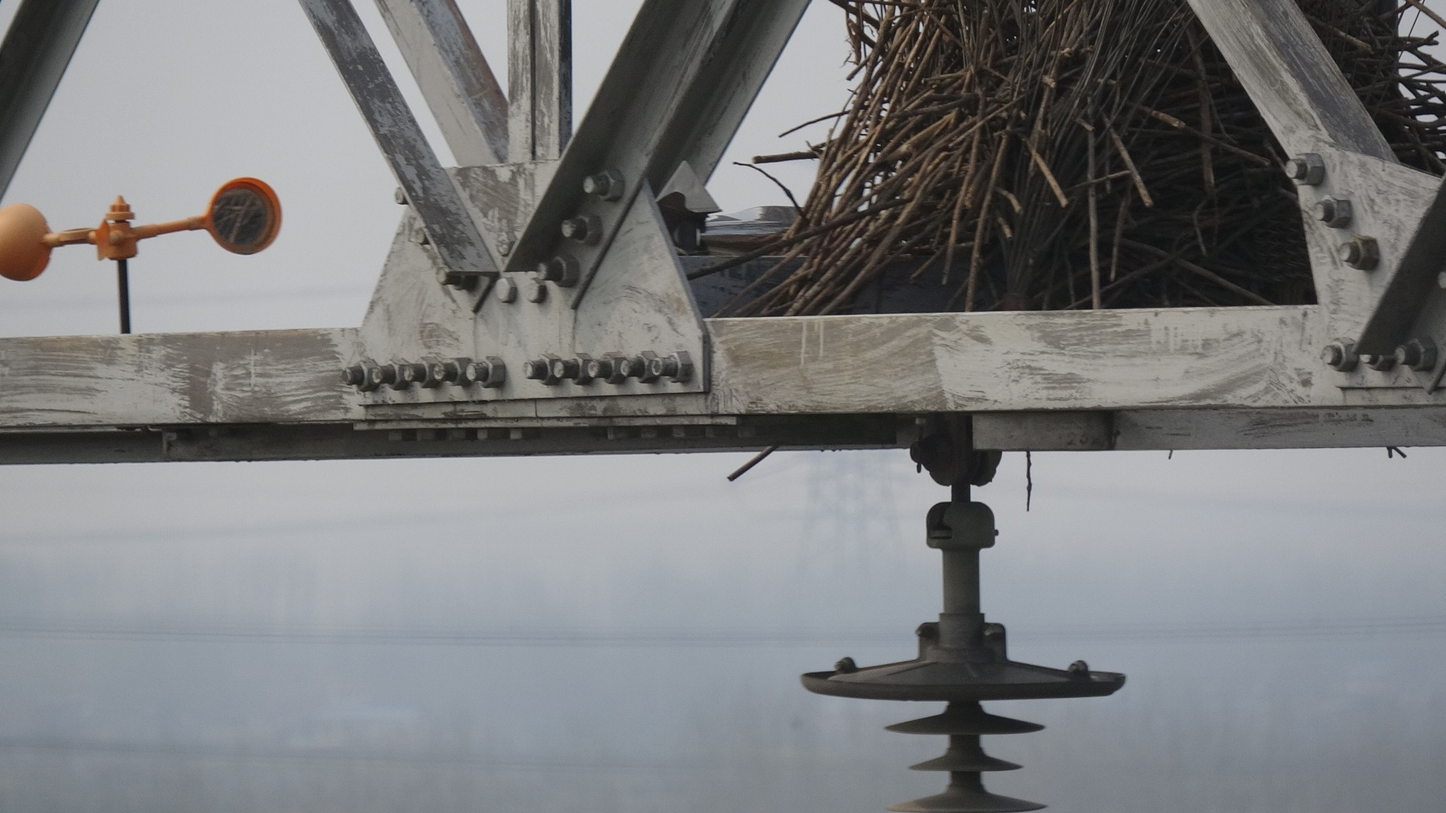insulator: (879, 711, 1059, 813)
